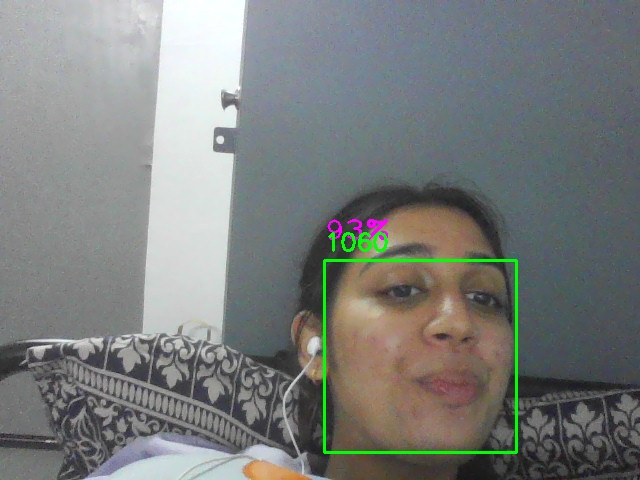real: (324, 260, 517, 453)
